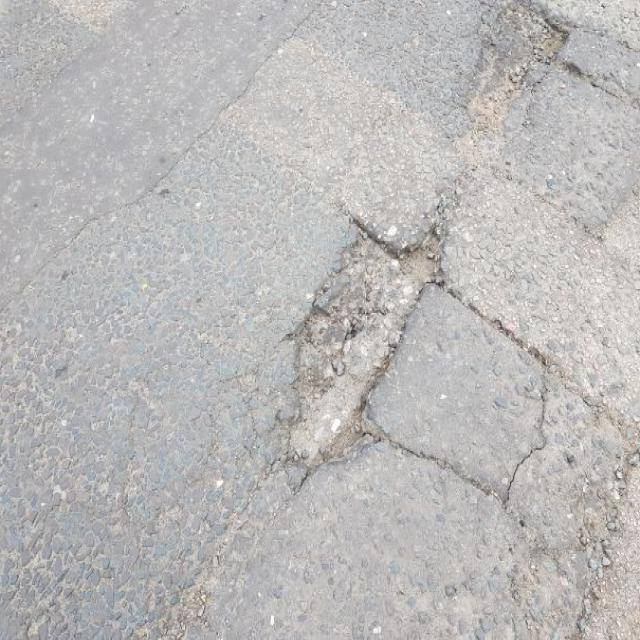Pothole: (272, 210, 454, 492), (458, 3, 583, 139)
